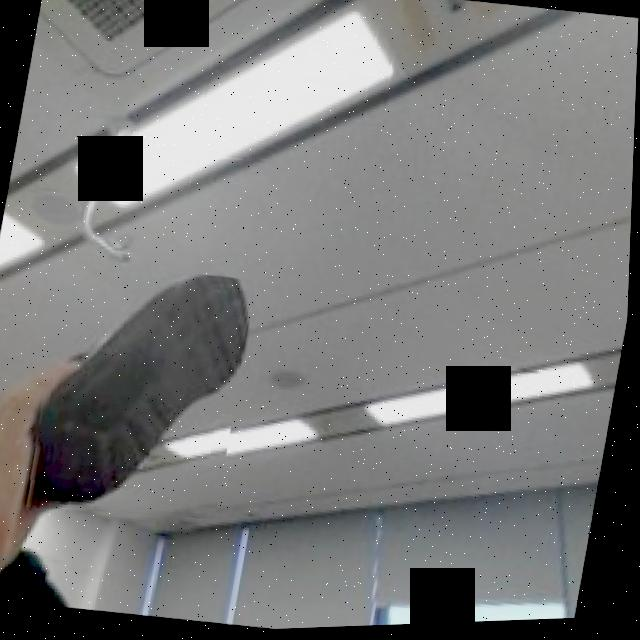shoe: (22, 255, 260, 534)
